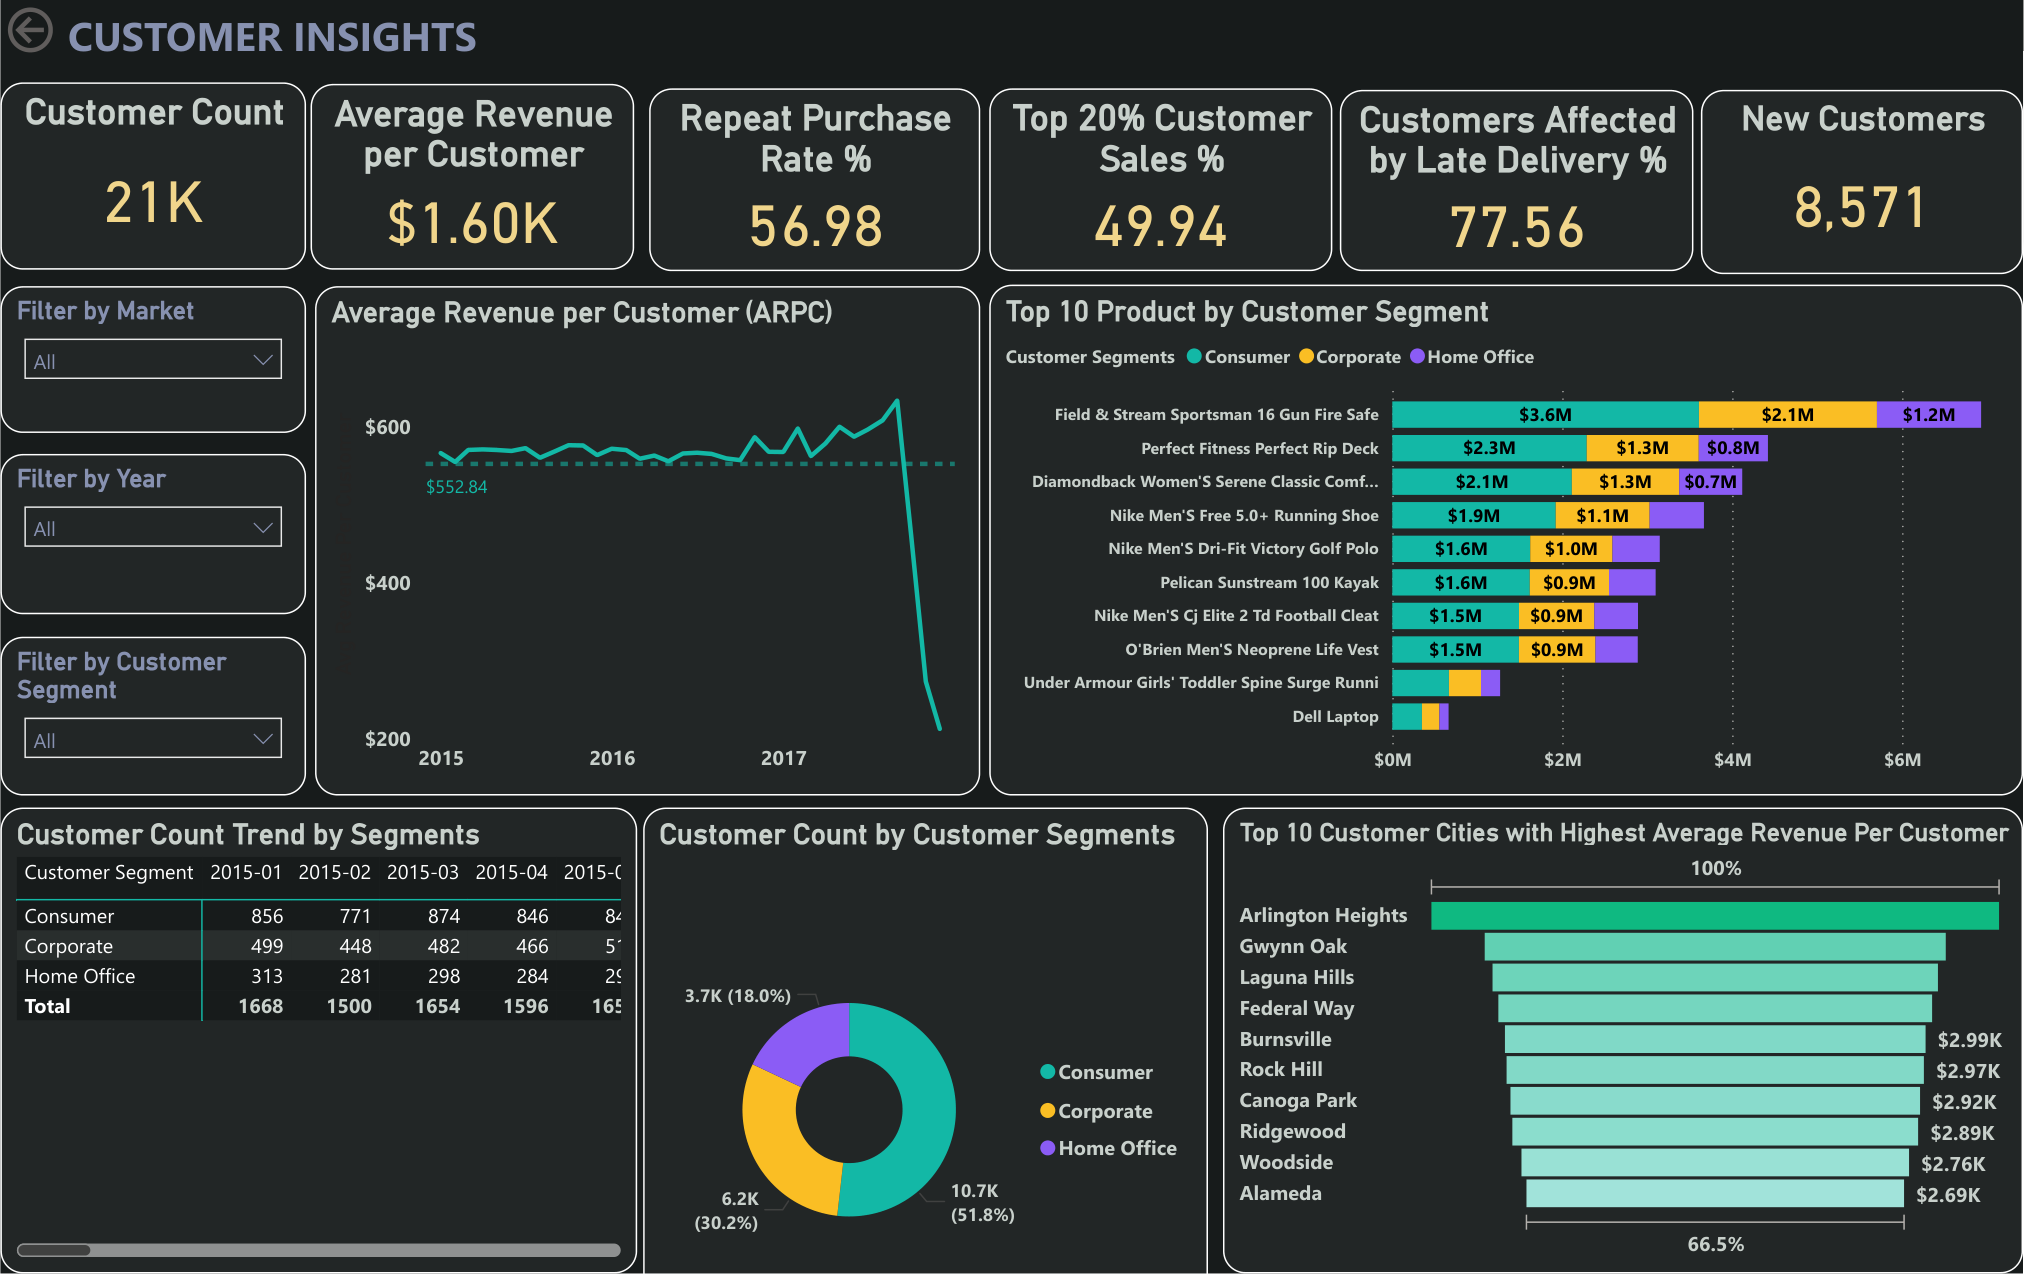

The dashboard page shown, as its layout file describes it:
{"tool":"powerbi","page":{"name":"Customer Insights","canvas":[1350,850],"ordinal":3},"visuals":[{"type":"card","title":"Customer Count","fields":{"Values":["DimCustomer.Customer Count"]},"box":[0,55.5,203.6,124.5],"z":0},{"type":"card","title":"Average Revenue per Customer","fields":{"Values":["DimCustomer.Customer Lifetime Value"]},"box":[207.1,55.7,215.7,124.3],"z":1000},{"type":"card","title":"Repeat Purchase Rate %","fields":{"Values":["DimCustomer.Repeat Purchase Rate %"]},"box":[432.5,58.8,221.2,122.5],"z":2000},{"type":"lineChart","title":"Average Revenue per Customer (ARPC)","fields":{"Y":["DimCustomer.Avg Revenue Per Customer"],"Category":["DimDate.MonthYear"]},"box":[210,191.2,443.8,340],"z":3000},{"type":"donutChart","title":"Customer Count by Customer Segments","fields":{"Category":["DimCustomer.CustomerSegment"],"Y":["DimCustomer.Customer Count"]},"box":[428.8,538.8,377.5,381.2],"z":4000},{"type":"pivotTable","title":"Customer Count Trend by Segments","fields":{"Values":["DimCustomer.Customer Count"],"Columns":["DimDate.MonthYear"],"Rows":["DimCustomer.CustomerSegment"]},"box":[0,538.8,425,311.2],"z":5000},{"type":"textbox","box":[40,0,295,46.2],"z":6000},{"type":"slicer","title":"Filter by Market","fields":{"Values":["DimLocation.Market"]},"box":[0,191.2,203.8,97.5],"z":7000},{"type":"slicer","title":"Filter by Year","fields":{"Values":["DimDate.Year"]},"box":[0,302.5,203.8,107.5],"z":8000},{"type":"slicer","title":"Filter by Customer Segment","fields":{"Values":["DimCustomer.CustomerSegment"]},"box":[0,425,203.8,106.2],"z":9000},{"type":"barChart","title":"Top 10 Product by Customer Segment","fields":{"Category":["DimProduct.ProductName"],"Y":["FactOrderItem.Total Sales"],"Series":["DimCustomer.CustomerSegment"]},"box":[660,190,690,341.2],"z":10000},{"type":"card","title":"Customers Affected by Late Delivery %","fields":{"Values":["DimCustomer.Customers Affected by Late Delivery %"]},"box":[893.8,60,236.2,121.2],"z":11000},{"type":"card","title":"Top 20% Customer Sales %","fields":{"Values":["DimCustomer.Top 20% Customer Sales %"]},"box":[660,58.8,228.8,122.5],"z":12000},{"type":"card","title":"New Customers","fields":{"Values":["DimCustomer.New Customers (Smart)"]},"box":[1135,60,215,122.5],"z":13000},{"type":"funnel","title":"Top 10 Customer Cities with Highest Average Revenue Per Customer","fields":{"Y":["DimCustomer.Avg Revenue Per Customer"],"Category":["DimCustomer.CustomerCity"]},"box":[816.2,538.8,533.8,311.2],"z":14000},{"type":"actionButton","box":[0,0,100,40],"z":15000}]}

Visuals, with their boxes in screenshot pixels (x1, y1, x2, y2), scaled from the page's 1350x850 canvas onto the 2025x1274 screenshot:
"Customer Count" card: (0, 83, 305, 270)
"Average Revenue per Customer" card: (311, 83, 634, 270)
"Repeat Purchase Rate %" card: (649, 88, 981, 272)
"Average Revenue per Customer (ARPC)" lineChart: (315, 287, 981, 796)
"Customer Count by Customer Segments" donutChart: (643, 808, 1209, 1273)
"Customer Count Trend by Segments" pivotTable: (0, 808, 638, 1273)
textbox: (60, 0, 502, 69)
"Filter by Market" slicer: (0, 287, 306, 433)
"Filter by Year" slicer: (0, 453, 306, 615)
"Filter by Customer Segment" slicer: (0, 637, 306, 796)
"Top 10 Product by Customer Segment" barChart: (990, 285, 2024, 796)
"Customers Affected by Late Delivery %" card: (1341, 90, 1695, 272)
"Top 20% Customer Sales %" card: (990, 88, 1333, 272)
"New Customers" card: (1702, 90, 2024, 274)
"Top 10 Customer Cities with Highest Average Revenue Per Customer" funnel: (1224, 808, 2024, 1273)
actionButton: (0, 0, 150, 60)
